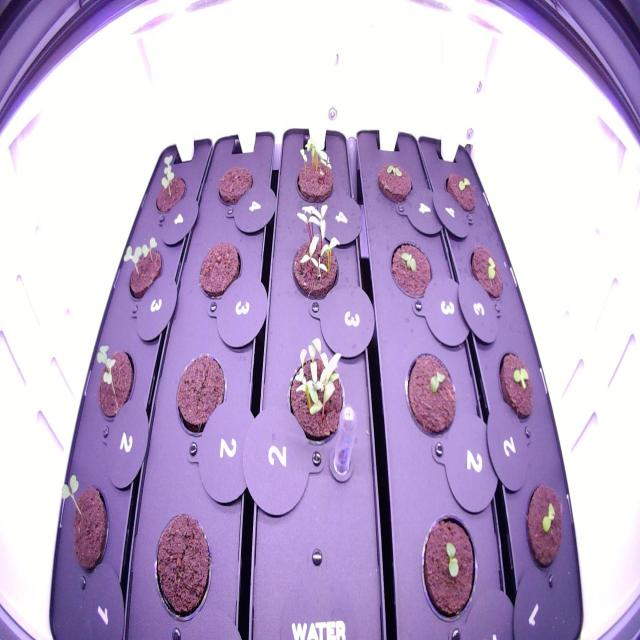germination: (278, 329, 352, 453), (418, 506, 485, 628), (54, 464, 113, 580), (285, 198, 344, 312), (402, 342, 460, 441), (86, 332, 138, 426), (521, 478, 568, 580), (490, 338, 538, 428), (116, 227, 166, 306), (289, 130, 339, 208), (384, 234, 436, 306), (462, 238, 508, 308), (146, 147, 190, 220), (371, 154, 417, 206), (442, 165, 484, 219)
pod: (149, 505, 215, 630), (170, 348, 230, 444), (193, 229, 243, 309), (212, 160, 258, 210)
